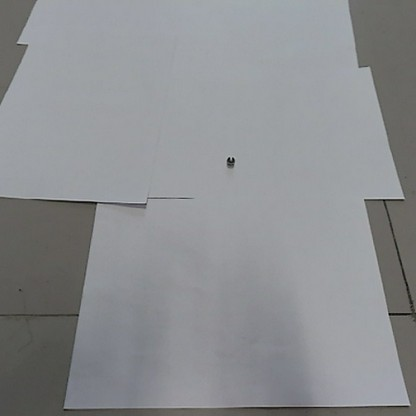ironball: (224, 153, 236, 167)
